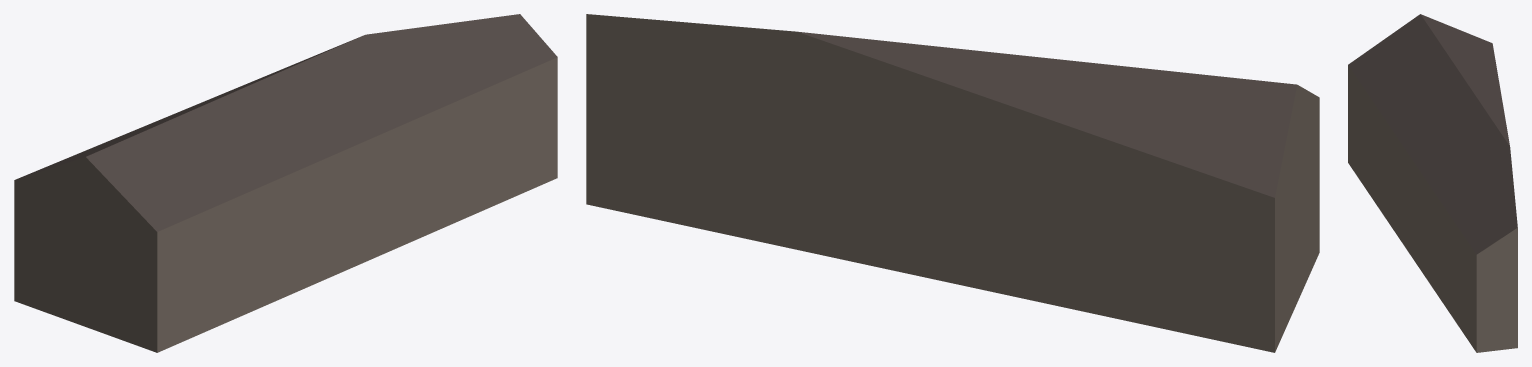
3 renders of one model, left to right at view 1: azimuth 30°, elevation 25°; view 2: azimuth 150°, elevation 25°; view 3: azimuth 270°, elevation 25°, orthographic. The views are drawn at different scales.
Visible parts, largest first — view 1: HP-w859078876; view 2: HP-w859078876; view 3: HP-w859078876.
Boxes of the visible parts, x1=… form: HP-w859078876: x1=14, y1=14, x2=557, y2=352; HP-w859078876: x1=586, y1=14, x2=1319, y2=352; HP-w859078876: x1=1348, y1=14, x2=1517, y2=352.
Bounding box in the file's own units: 27.73 × 8.44 × 9.4.
